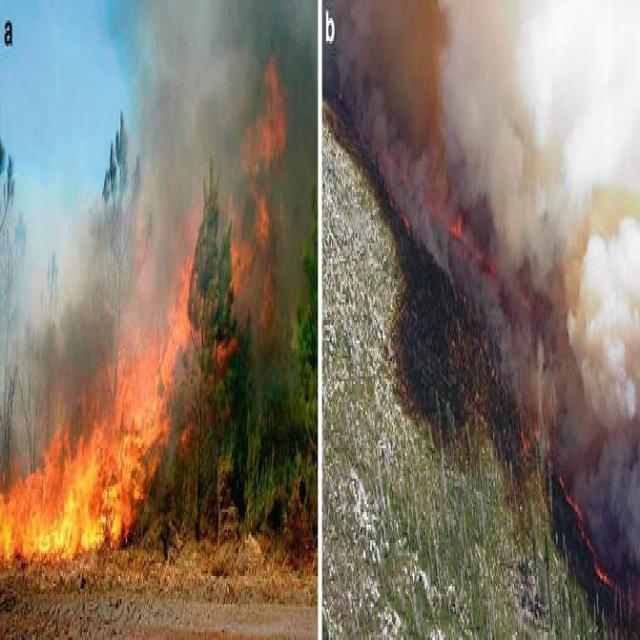Fire: (1, 258, 218, 572), (549, 452, 585, 528), (590, 548, 614, 594), (449, 192, 466, 256)
Smoke: (337, 0, 640, 585), (26, 0, 315, 461)
